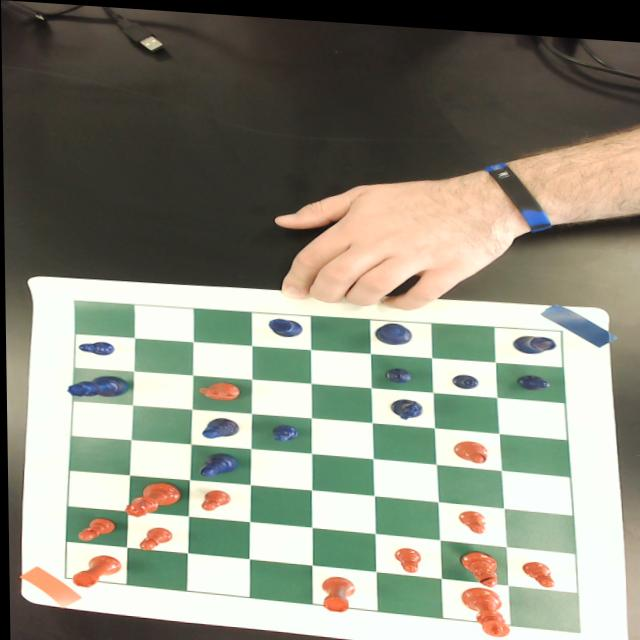B: (197, 449, 237, 476), (199, 414, 237, 438)
K: (372, 316, 412, 341)
N: (384, 391, 423, 417)
P: (514, 367, 550, 385), (75, 339, 113, 356), (268, 421, 298, 438), (382, 362, 412, 379), (449, 368, 477, 384)
Q: (63, 372, 126, 399)
R: (507, 326, 554, 348), (266, 314, 301, 334)
b: (457, 543, 499, 581), (452, 433, 487, 457)
cb: (62, 300, 576, 625)
k: (458, 580, 509, 631)
n: (195, 378, 239, 400)
p: (75, 516, 113, 542), (136, 524, 170, 552), (519, 554, 553, 580), (391, 542, 423, 568), (197, 486, 228, 510), (456, 504, 486, 528)
q: (121, 479, 179, 518)
r: (68, 552, 119, 589), (317, 571, 352, 609)
